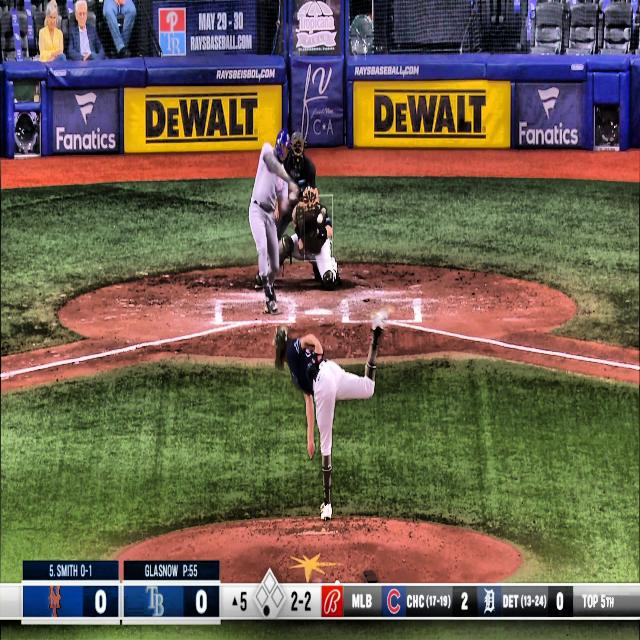baseball: (316, 213, 324, 226)
